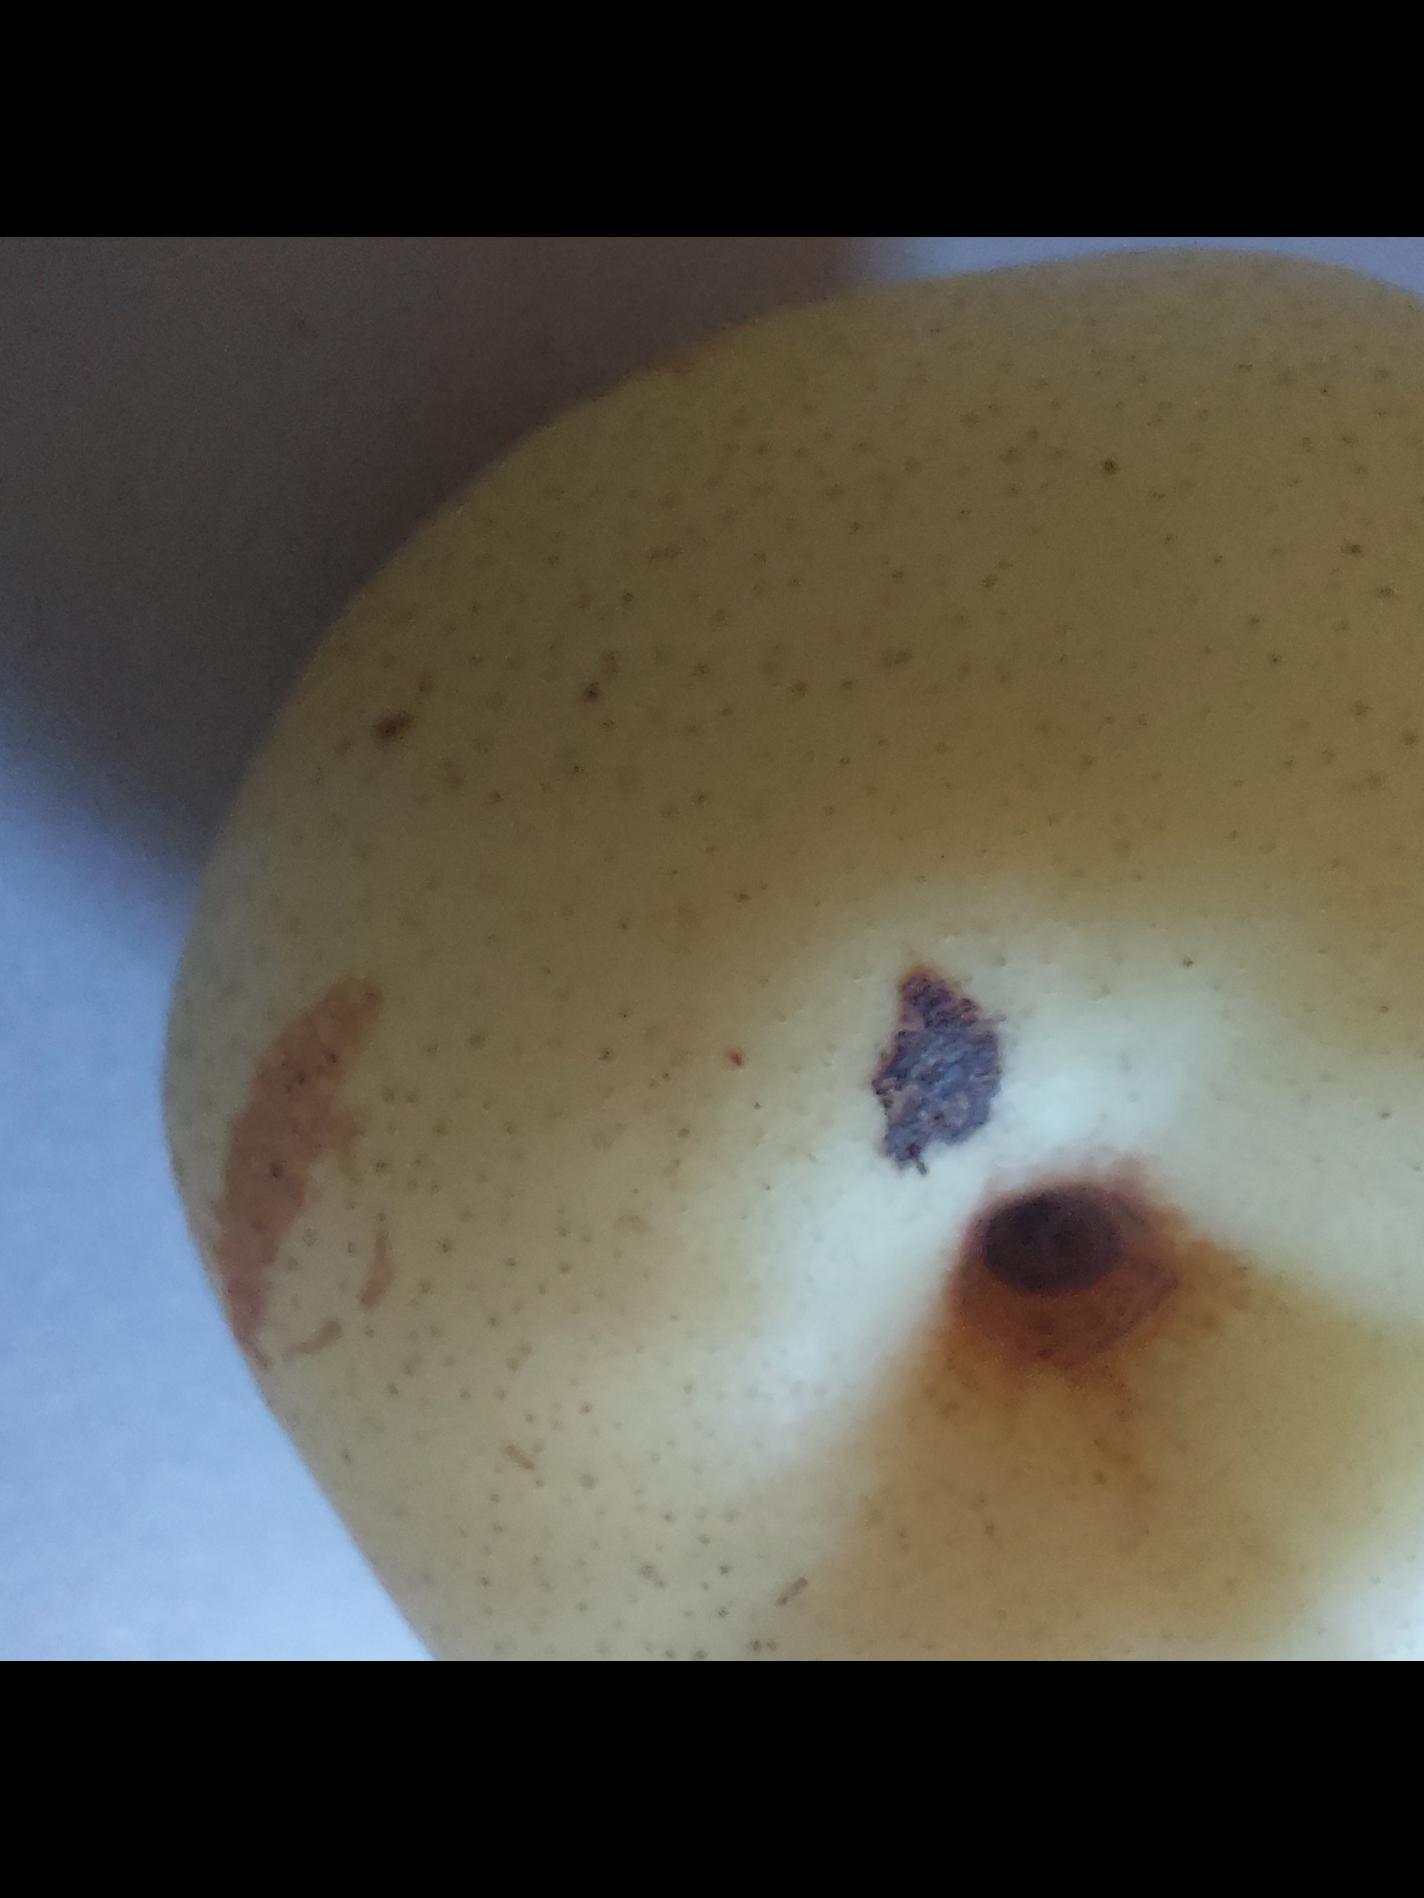Good Pear: (75, 236, 1424, 1662)
